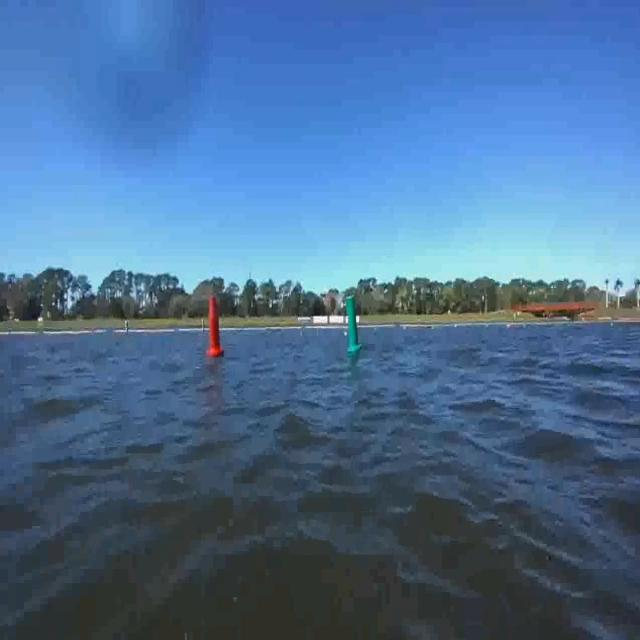green-column-buoy: (346, 296, 362, 354)
red-column-buoy: (206, 296, 223, 358)
